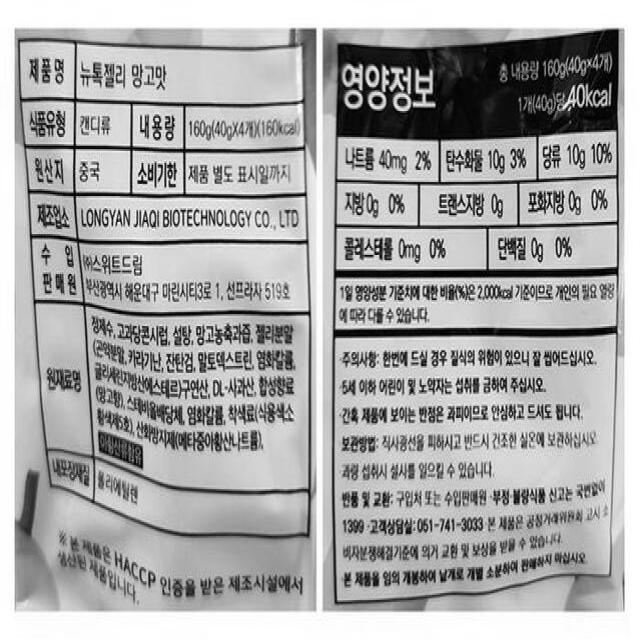Nutrition Label: (337, 31, 629, 342)
